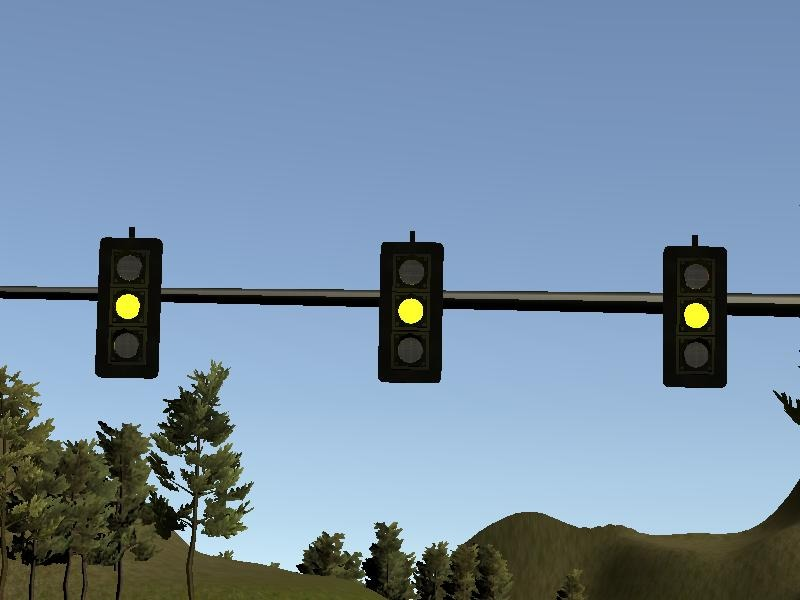yellow: (97, 238, 163, 382), (662, 245, 728, 389), (378, 239, 444, 383)
